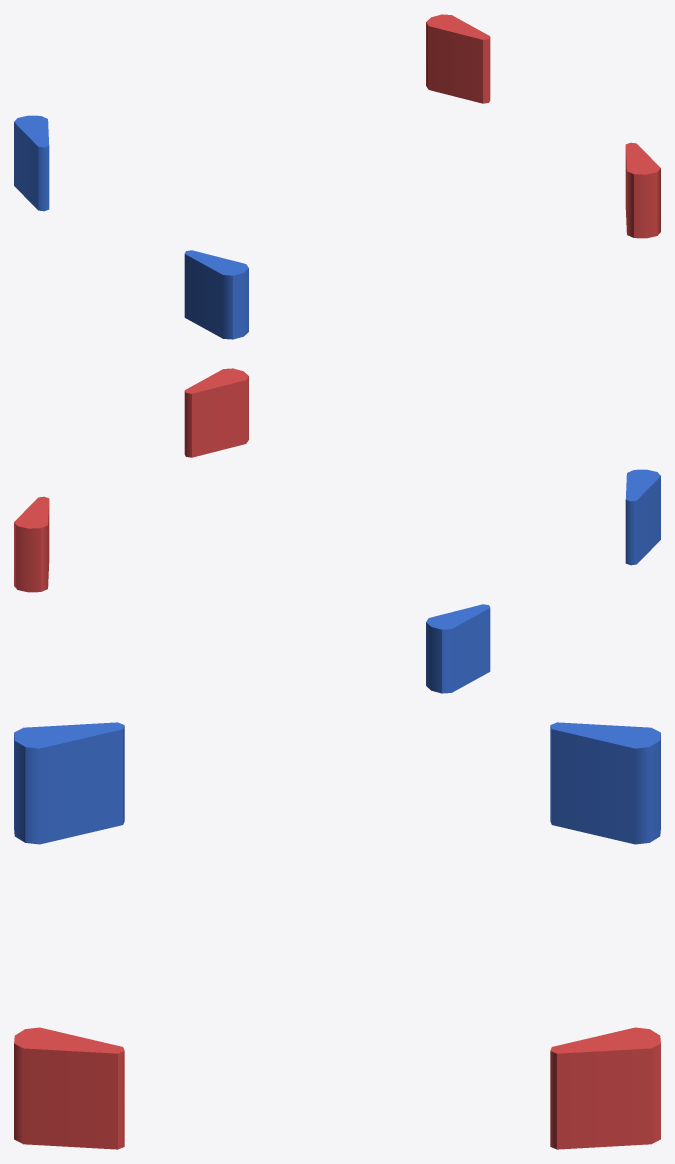
Rendered from flipper_TestTable01_kgunn.fbx.
3 renders of one model, top to bottom at view 1: azimuth 30°, elevation 25°; view 2: azimuth 150°, elevation 25°; view 3: azimuth 270°, elevation 25°, orthographic. The views are drawn at different scales.
Visible parts, largest first — view 1: flipper02_GEO_TestTable01_kgunn, flipper03_GEO_TestTable01_kgunn, flipper01_GEO_TestTable01_kgunn, flipper04_GEO_TestTable01_kgunn; view 2: flipper01_GEO_TestTable01_kgunn, flipper04_GEO_TestTable01_kgunn, flipper02_GEO_TestTable01_kgunn, flipper03_GEO_TestTable01_kgunn; view 3: flipper01_GEO_TestTable01_kgunn, flipper02_GEO_TestTable01_kgunn, flipper03_GEO_TestTable01_kgunn, flipper04_GEO_TestTable01_kgunn.
Boxes of the visible parts, box(x1,y1,x2,y2) form: flipper02_GEO_TestTable01_kgunn: box(184, 250, 248, 339); flipper03_GEO_TestTable01_kgunn: box(426, 14, 490, 103); flipper01_GEO_TestTable01_kgunn: box(14, 115, 49, 211); flipper04_GEO_TestTable01_kgunn: box(625, 142, 660, 238); flipper01_GEO_TestTable01_kgunn: box(426, 604, 490, 693); flipper04_GEO_TestTable01_kgunn: box(184, 368, 248, 457); flipper02_GEO_TestTable01_kgunn: box(625, 469, 660, 565); flipper03_GEO_TestTable01_kgunn: box(14, 496, 49, 592); flipper01_GEO_TestTable01_kgunn: box(550, 722, 660, 844); flipper02_GEO_TestTable01_kgunn: box(14, 722, 124, 844); flipper03_GEO_TestTable01_kgunn: box(550, 1027, 660, 1149); flipper04_GEO_TestTable01_kgunn: box(14, 1027, 124, 1149).
Size of the model in its own units: 7.41 by 1 by 6.12.
